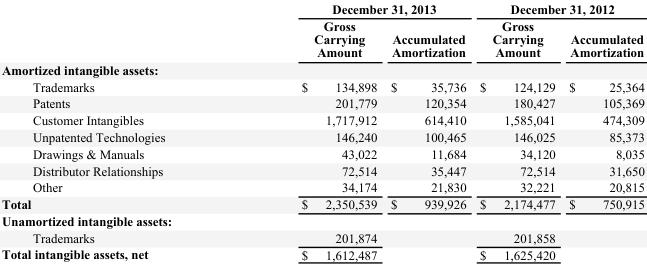table: (1, 1, 643, 261)
table column: (1, 1, 232, 261), (232, 1, 383, 261), (383, 1, 472, 261), (472, 1, 561, 261), (561, 1, 643, 261)
table column header: (1, 1, 643, 60)
table projected row header: (1, 60, 643, 77), (1, 212, 643, 228)
table row: (1, 16, 643, 60), (1, 60, 643, 77), (1, 77, 643, 94), (1, 94, 643, 111), (1, 111, 643, 128), (1, 128, 643, 145), (1, 161, 643, 178), (1, 178, 643, 195), (1, 195, 643, 212), (1, 228, 643, 245), (1, 145, 643, 161), (1, 212, 643, 228), (1, 245, 643, 261), (1, 1, 643, 16)
table spanning cell: (232, 1, 472, 16), (472, 1, 643, 16)
